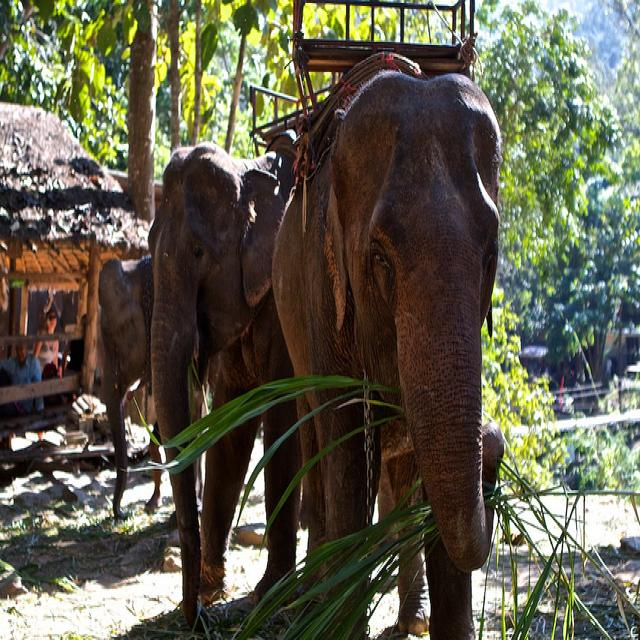Elephant: (270, 67, 502, 638), (147, 139, 306, 628), (97, 253, 206, 520)
person: (32, 307, 61, 378)
